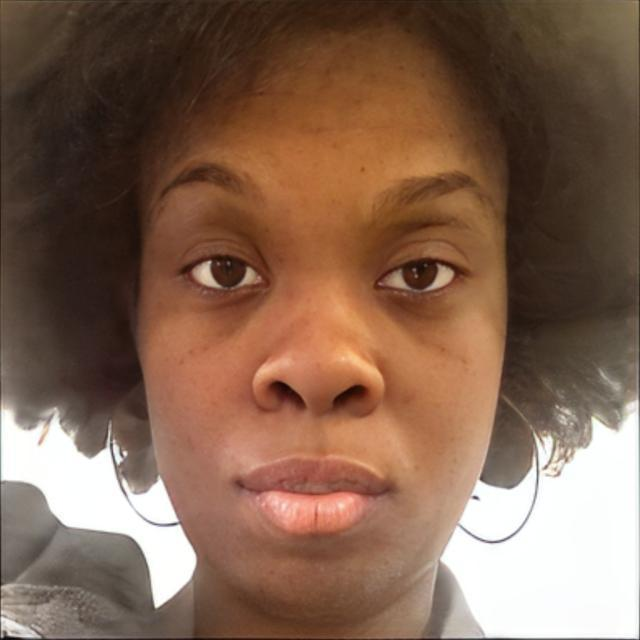neutral: (138, 22, 509, 626)
